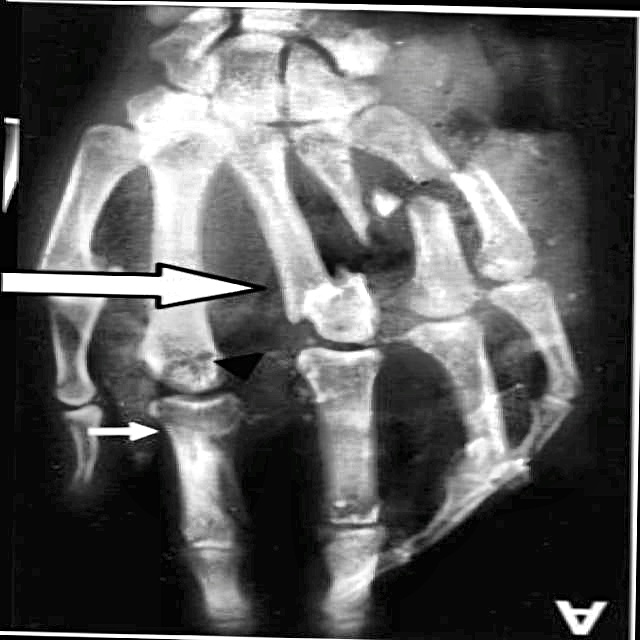Oblique Displaced: (276, 264, 379, 344)
Segmental: (342, 181, 446, 251)
Transverse Displaced: (404, 144, 484, 194)
